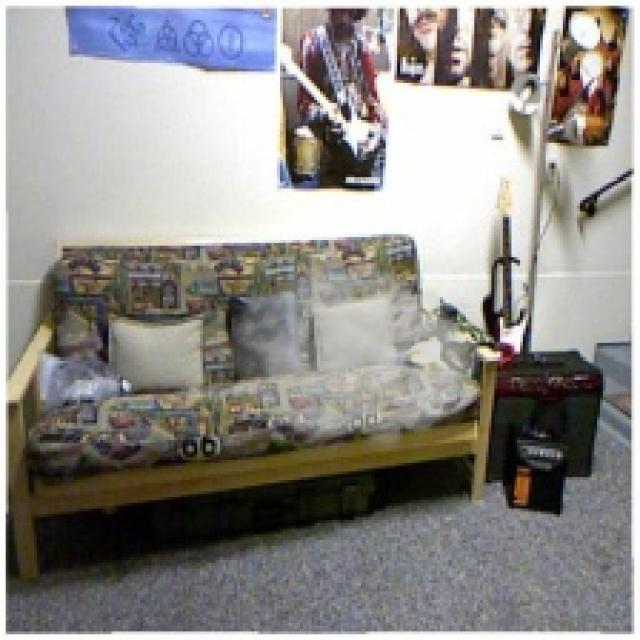Smoke: (232, 252, 479, 454)
